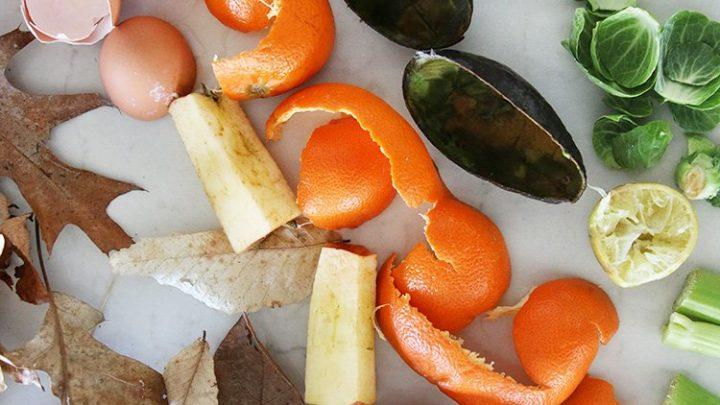organic: (372, 249, 626, 405), (2, 30, 149, 255), (402, 49, 590, 208), (167, 92, 302, 253), (107, 229, 350, 317), (0, 292, 168, 405), (385, 202, 514, 341), (202, 1, 338, 99), (303, 241, 379, 405), (588, 182, 700, 289), (298, 116, 401, 229), (564, 0, 660, 99), (212, 312, 306, 405), (662, 5, 720, 133), (342, 0, 482, 53), (0, 192, 52, 307), (662, 269, 720, 359), (593, 108, 672, 171), (162, 330, 220, 405), (675, 132, 720, 211), (558, 369, 628, 405), (663, 372, 720, 405)
